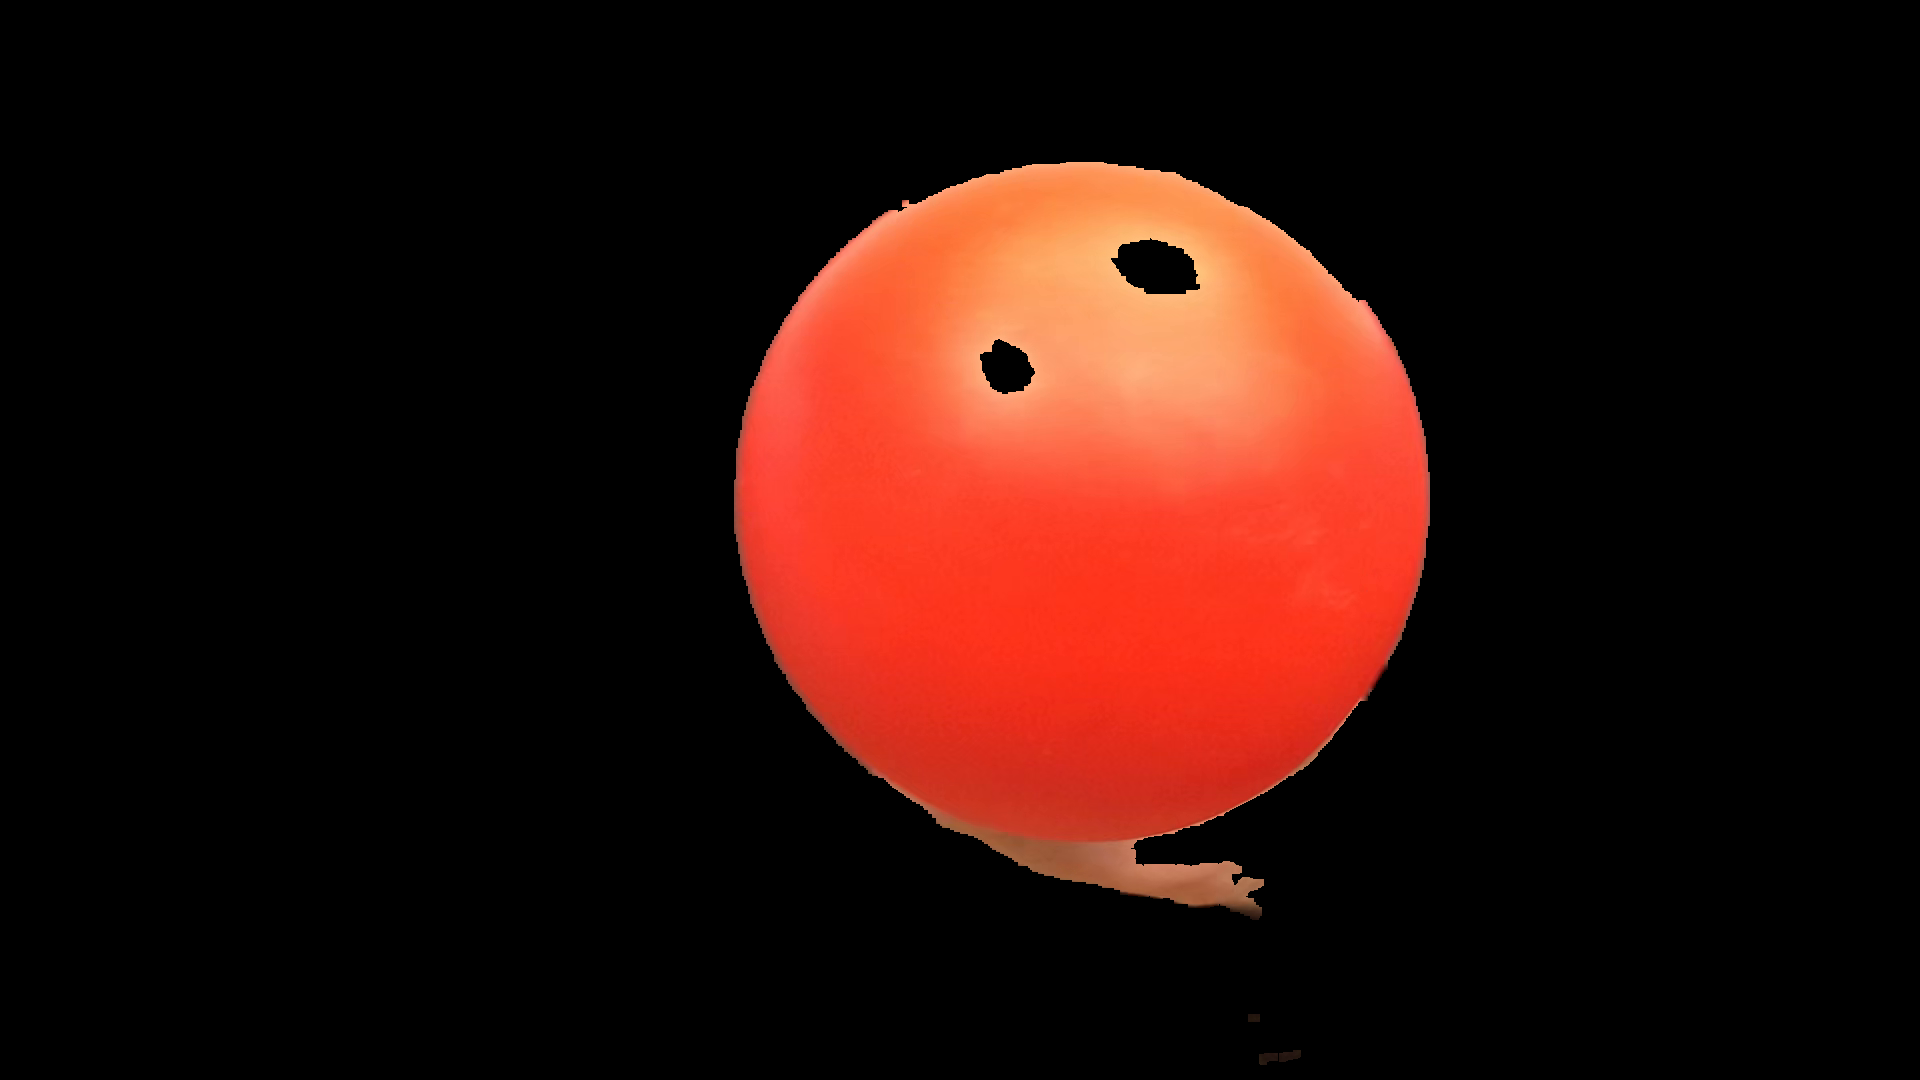Ball: (727, 157, 1429, 837)
